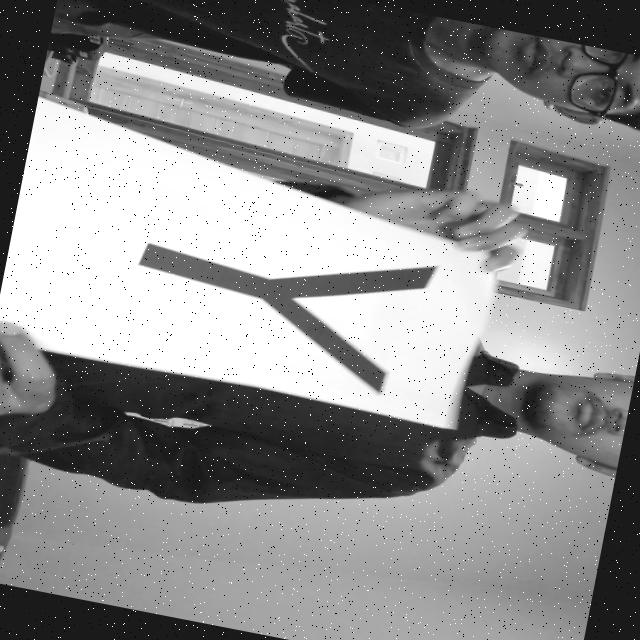y: (106, 196, 459, 412)
